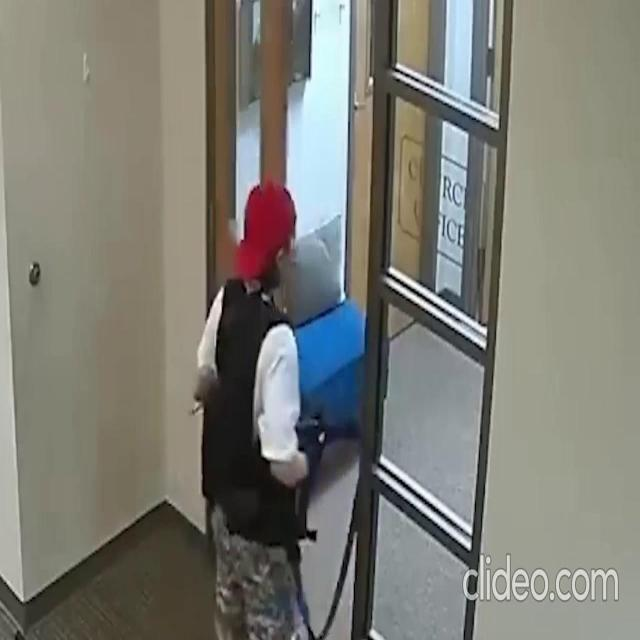pistol: (290, 412, 372, 458)
